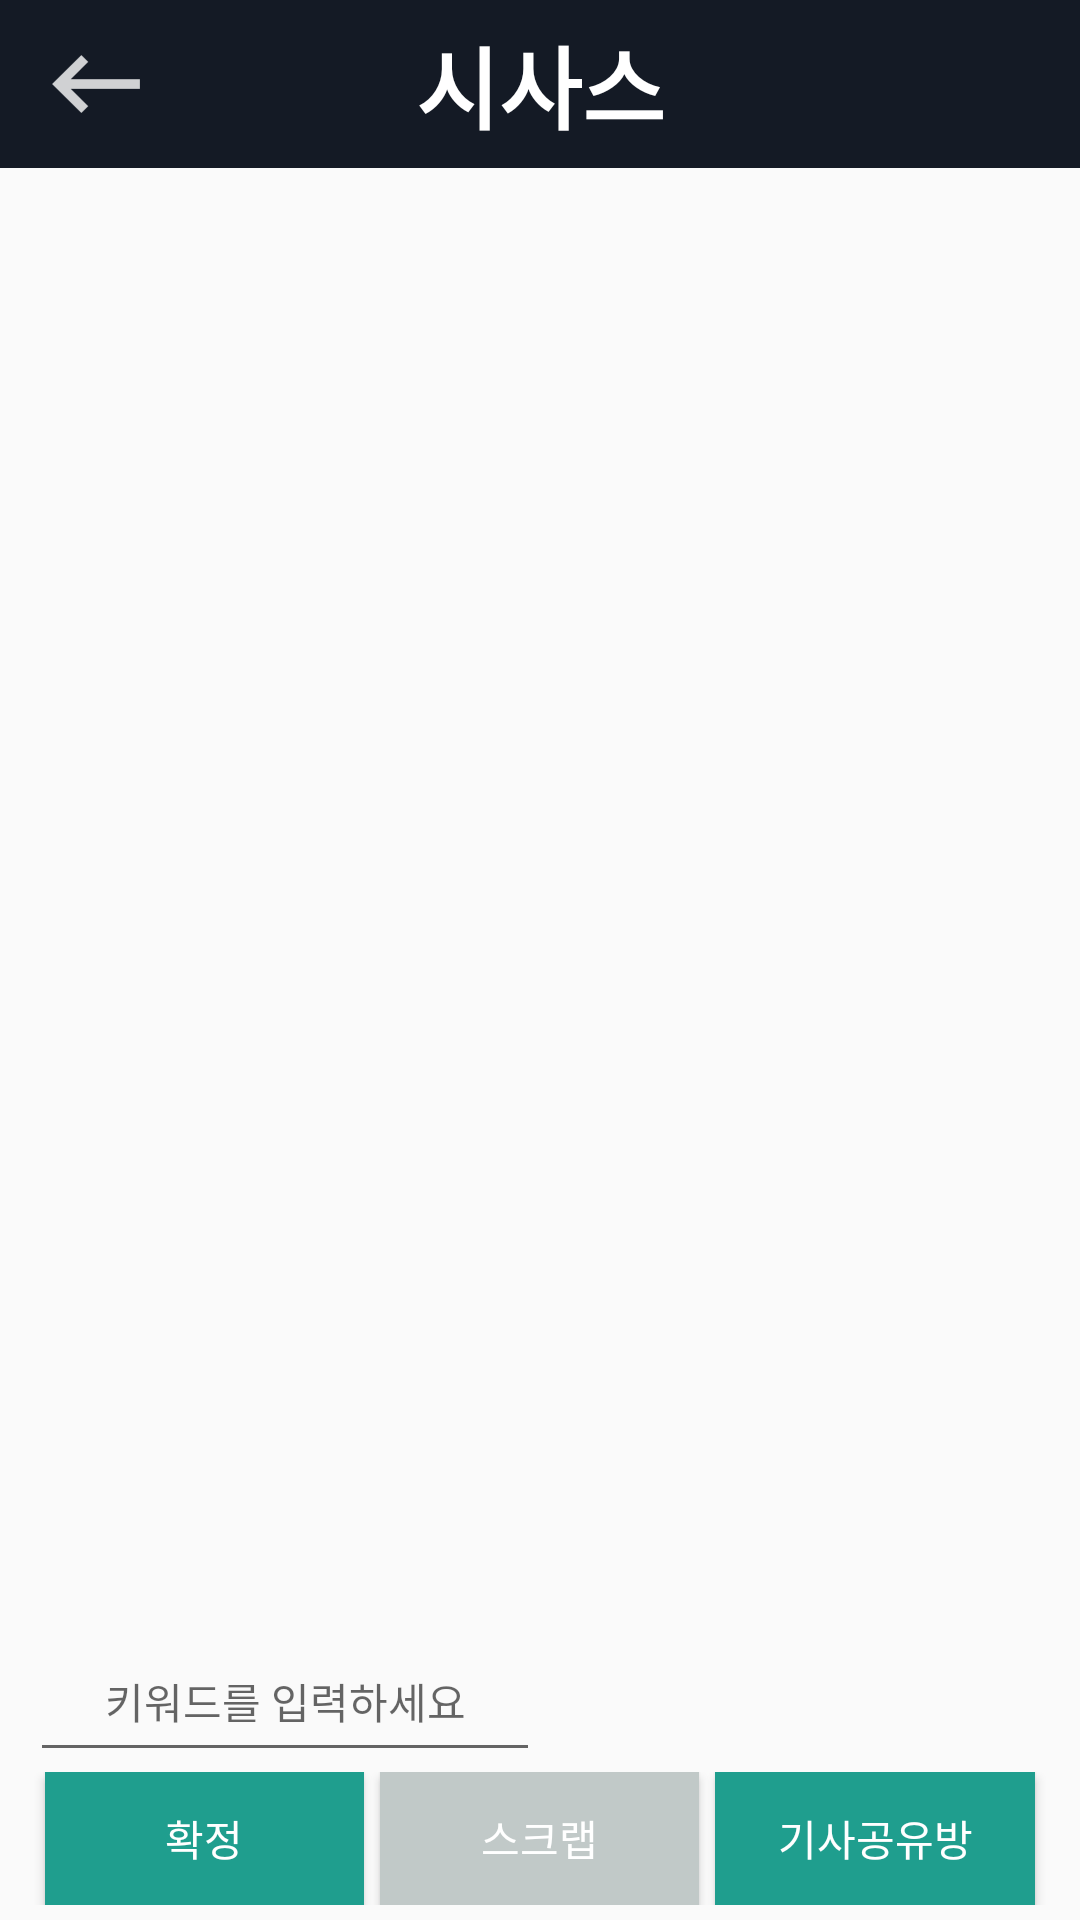

Screen size 1080x1920. Icon name, then its box in pixels as (left=x1, top=y1, right=x2, bottom=y2):
back: (left=52, top=55, right=140, bottom=113)
